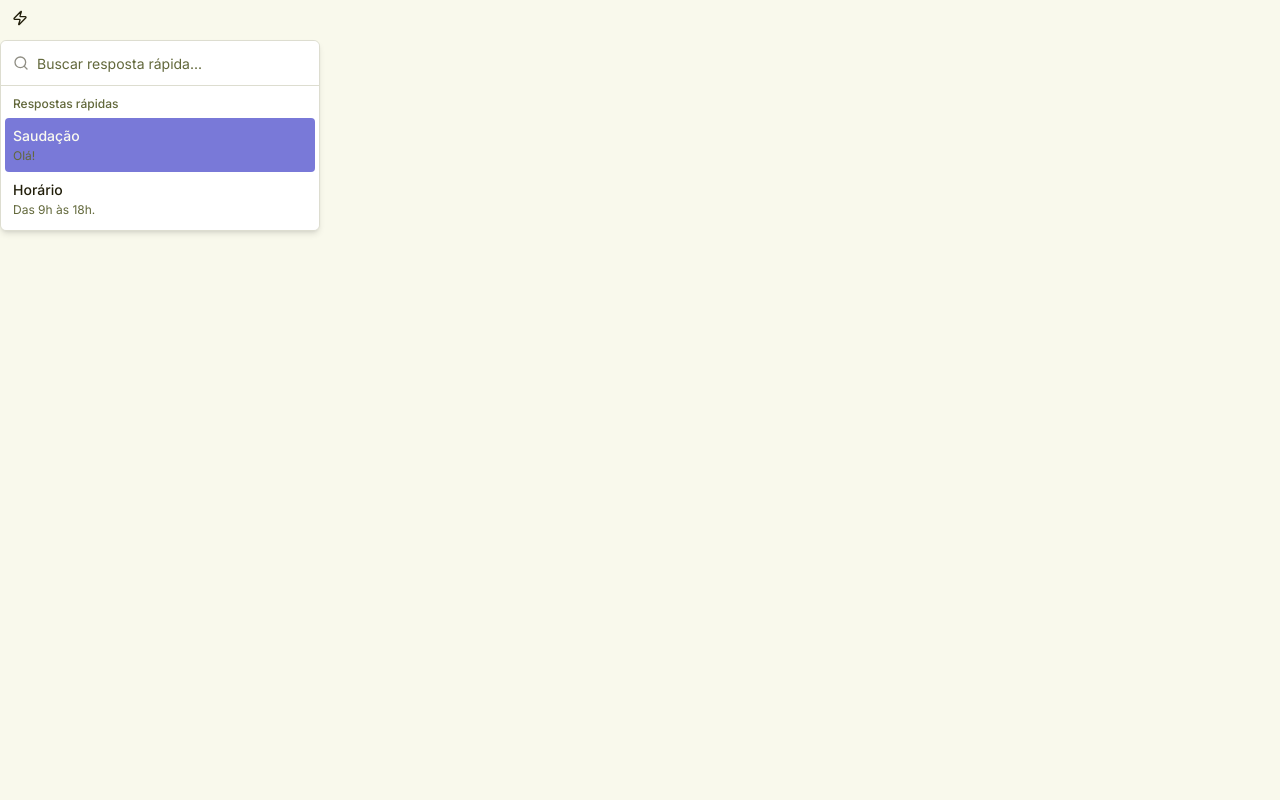
busca › filtra por nome
Type "Horár" into the dropdown with placeholder "Buscar resposta rápida..." at (172, 63), box [37, 41, 307, 85]
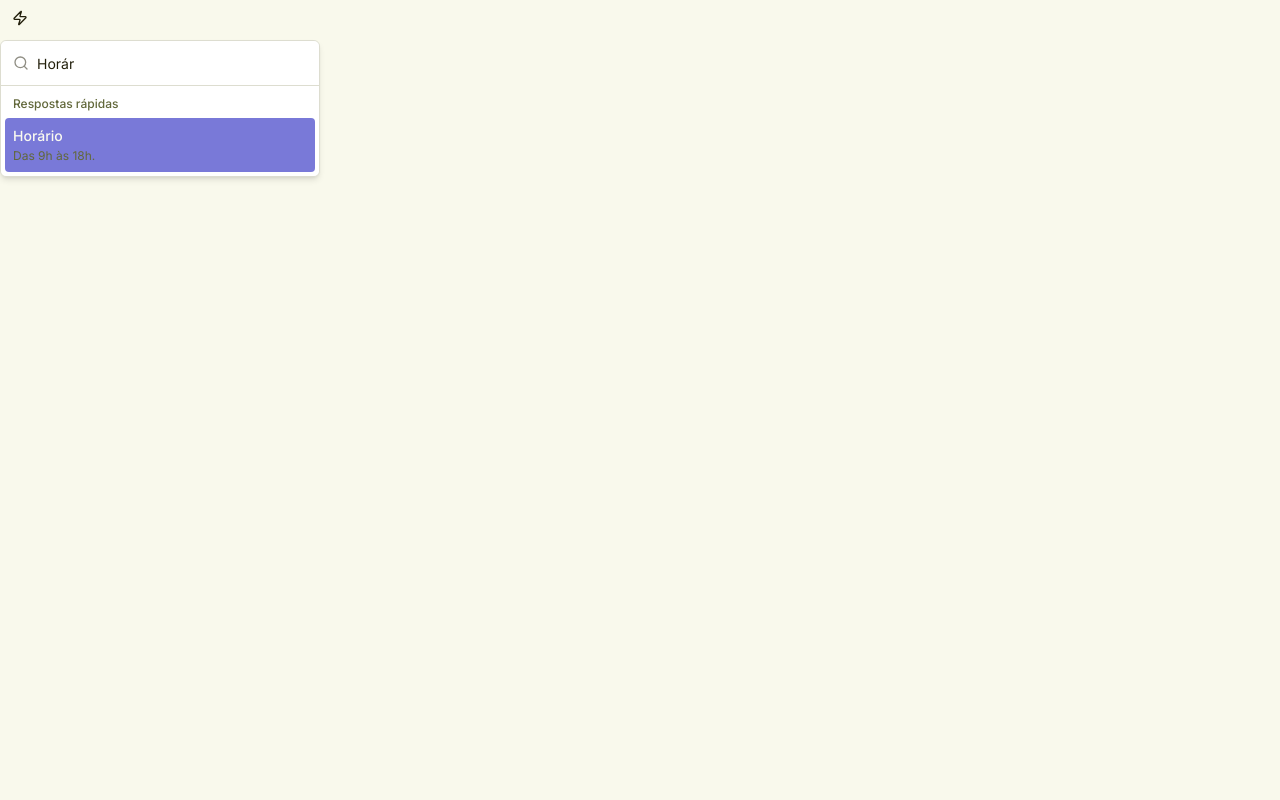
Expected: the text "Horário" is shown, [13, 126, 63, 146]
Expected: the option "Saudação" is gone
